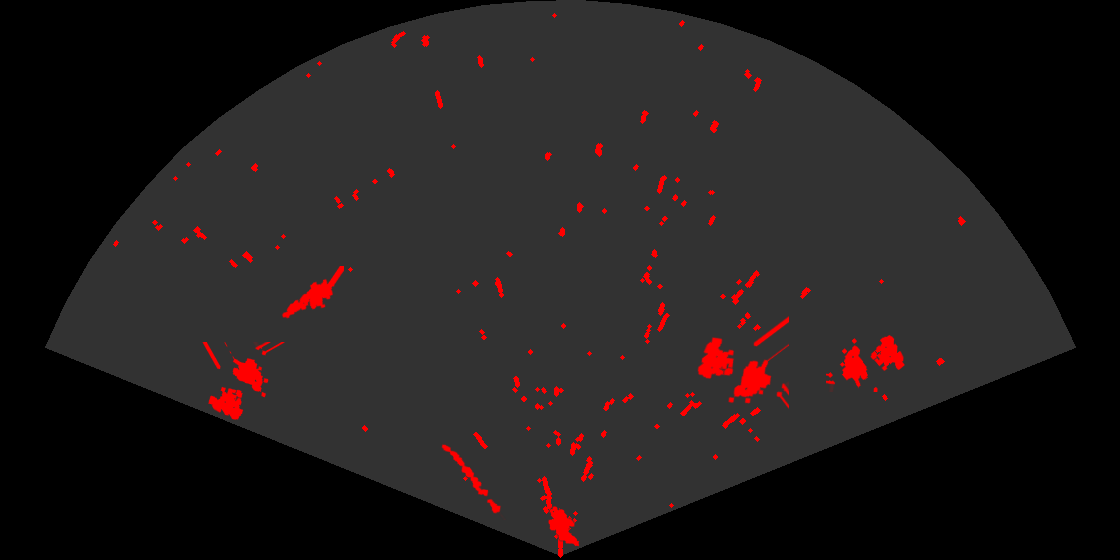AUV: (547, 505, 581, 548)
cage: (696, 314, 789, 410), (201, 342, 286, 421), (826, 334, 906, 392)
chain: (440, 443, 507, 520)
frogman: (280, 266, 344, 320)
